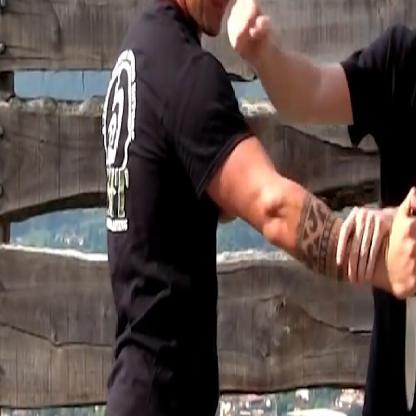knife: (396, 182, 416, 412)
